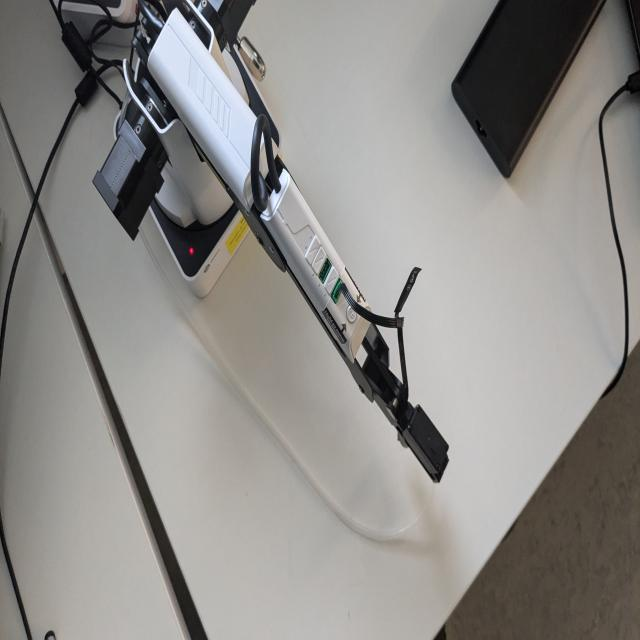Robot-end-effector-HF8z: (394, 392, 450, 488)
